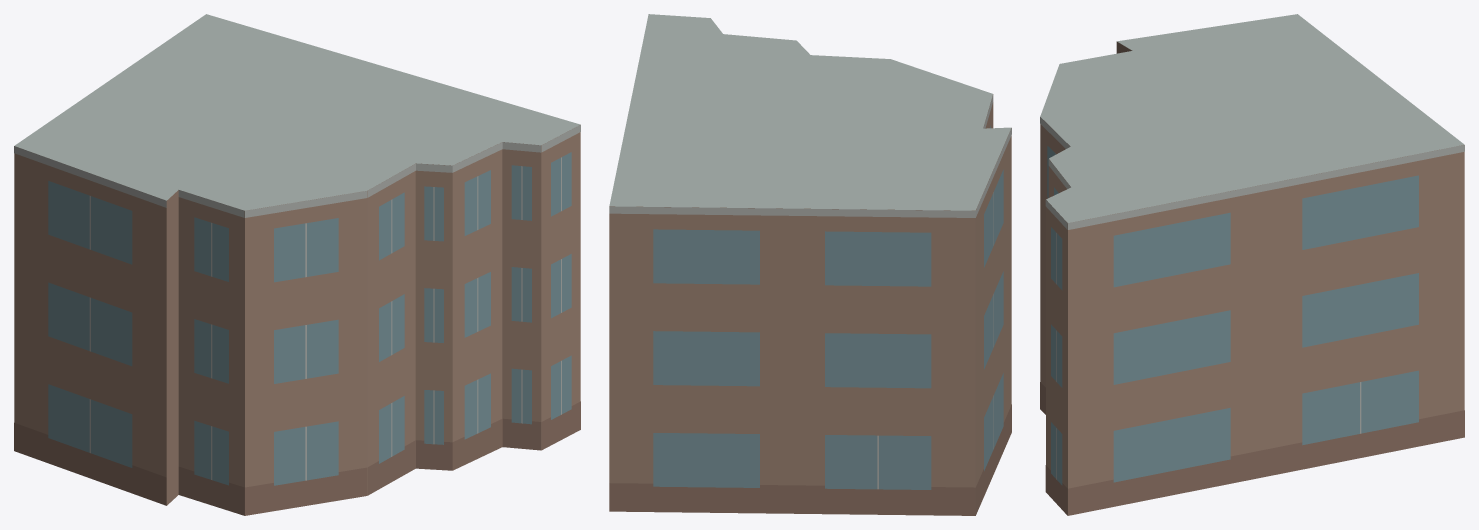
File: survey-upis-32838359.glb
3 renders of one model, left to right at view 1: azimuth 30°, elevation 25°; view 2: azimuth 150°, elevation 25°; view 3: azimuth 270°, elevation 25°, orthographic. The views are drawn at different scales.
Visible parts, largest first — view 1: survey-upis-32838359.tmp; view 2: survey-upis-32838359.tmp; view 3: survey-upis-32838359.tmp.
Part boxes in pixels (box(x1,y1,x2,y2)): survey-upis-32838359.tmp: box(14, 14, 580, 515); survey-upis-32838359.tmp: box(609, 14, 1011, 515); survey-upis-32838359.tmp: box(1040, 14, 1464, 515).
Bounding box in the file's own units: 15.64 × 10.2 × 13.42.
